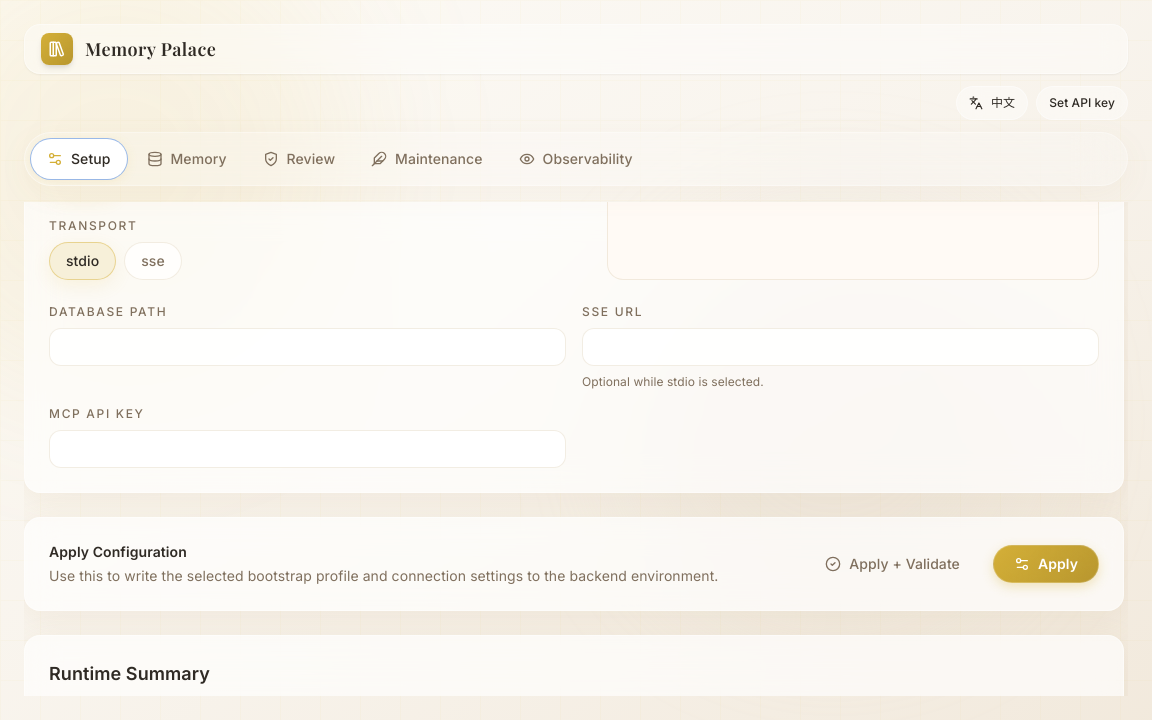
Test: App routing › updates app auth controls immediately when setup provisions a maintenance key
This screenshot has width=1152, height=720.
(page scrolled)
Expected: the button "Set API key" is shown, [1036,86,1128,120]
Type "setup-session-key" into the password field named "mcpApiKey" at (308, 449), box [49,430,566,468]
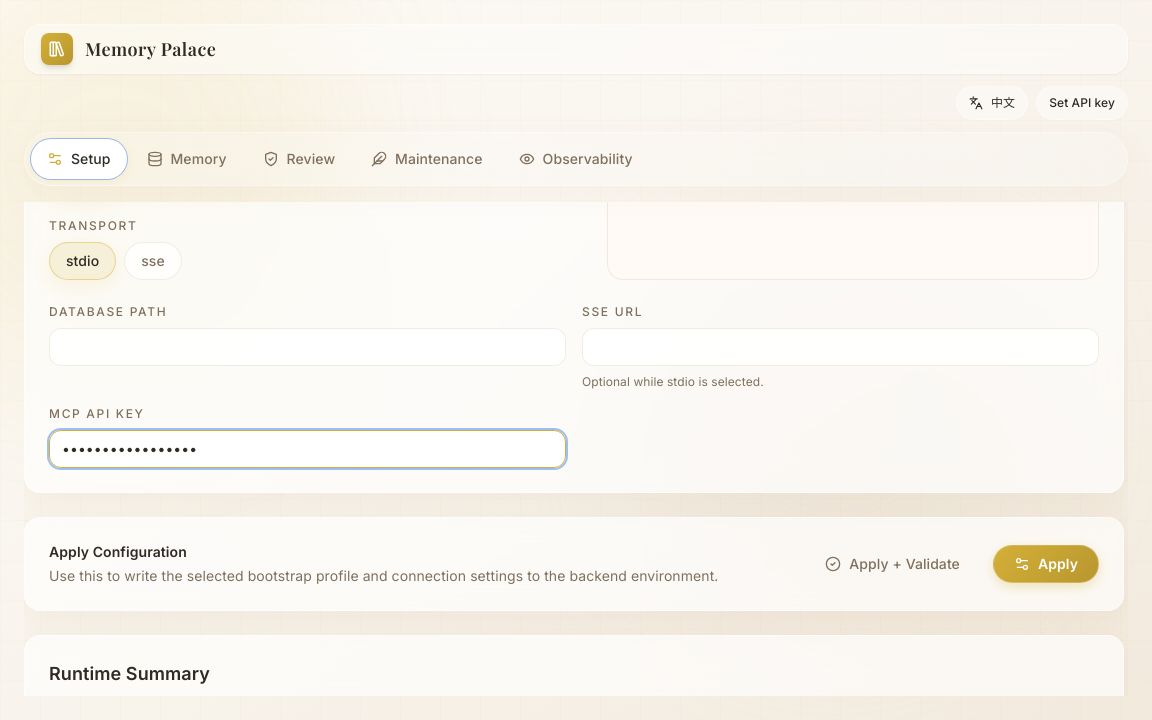
Click the button "Apply" at (1046, 564), box [993,545,1099,583]
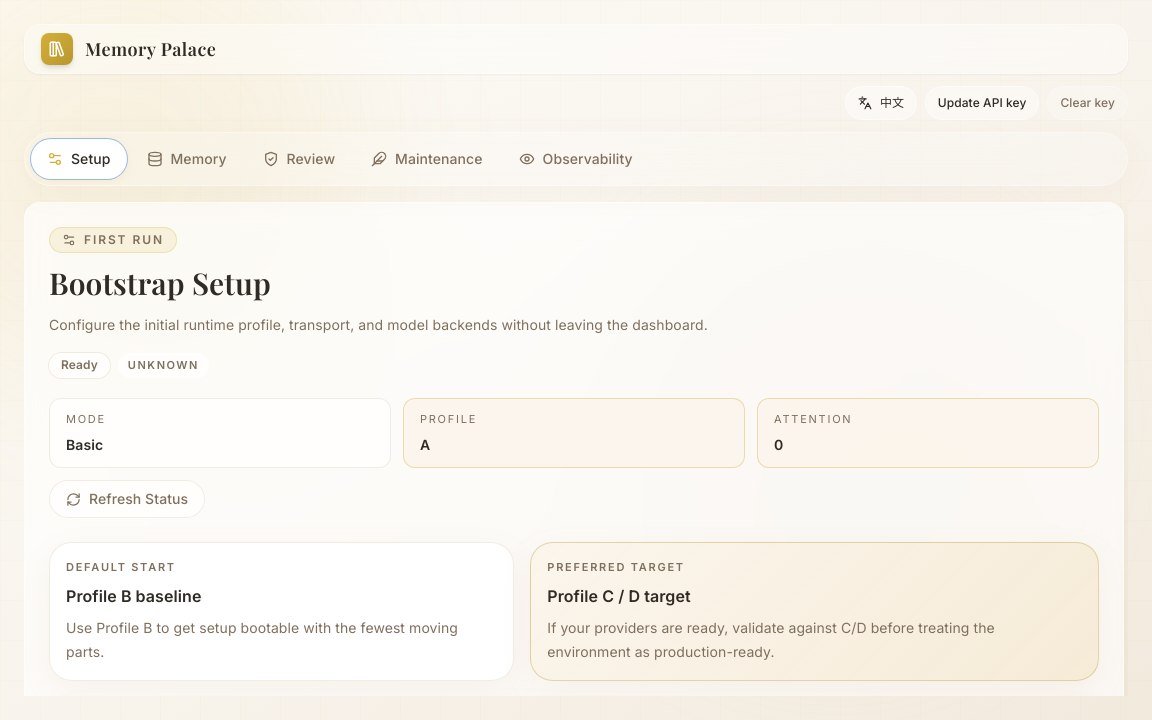
Expected: the button "Update API key" is shown, [925,86,1040,120]
